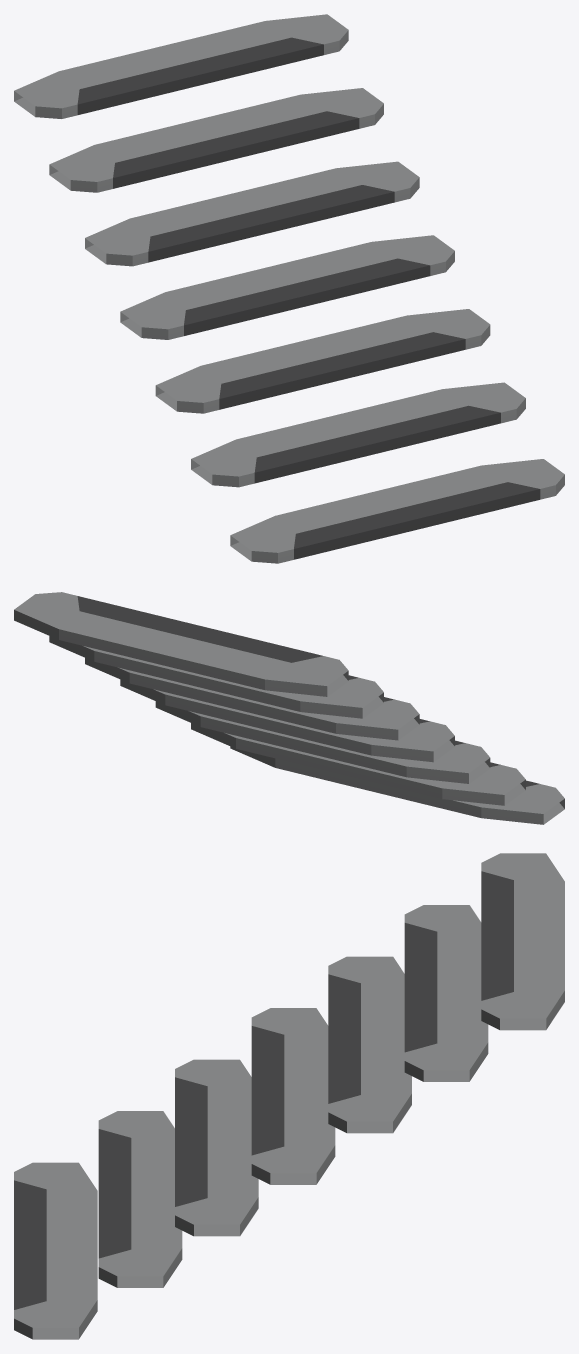
The model's file is Stair_type_B_001.fbx.
The picture shows the model from 3 angles, top to bottom: view 1: azimuth 30°, elevation 25°; view 2: azimuth 150°, elevation 25°; view 3: azimuth 270°, elevation 25°; orthographic projection. The views are drawn at different scales.
Parts seen in each view (by area): view 1: Stair_type_B_001; view 2: Stair_type_B_001; view 3: Stair_type_B_001.
Part boxes in pixels (bbox=[...]): Stair_type_B_001: bbox=[14, 14, 564, 563]; Stair_type_B_001: bbox=[14, 592, 564, 824]; Stair_type_B_001: bbox=[14, 853, 564, 1339].
Bounding box in the file's own units: 152 × 214 × 138.
